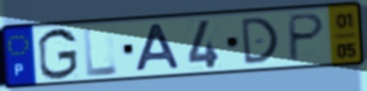4: (186, 18, 223, 72)
A: (133, 22, 183, 74)
D: (239, 15, 281, 67)
G: (35, 27, 80, 82)
L: (81, 25, 120, 79)
P: (287, 12, 328, 64)
